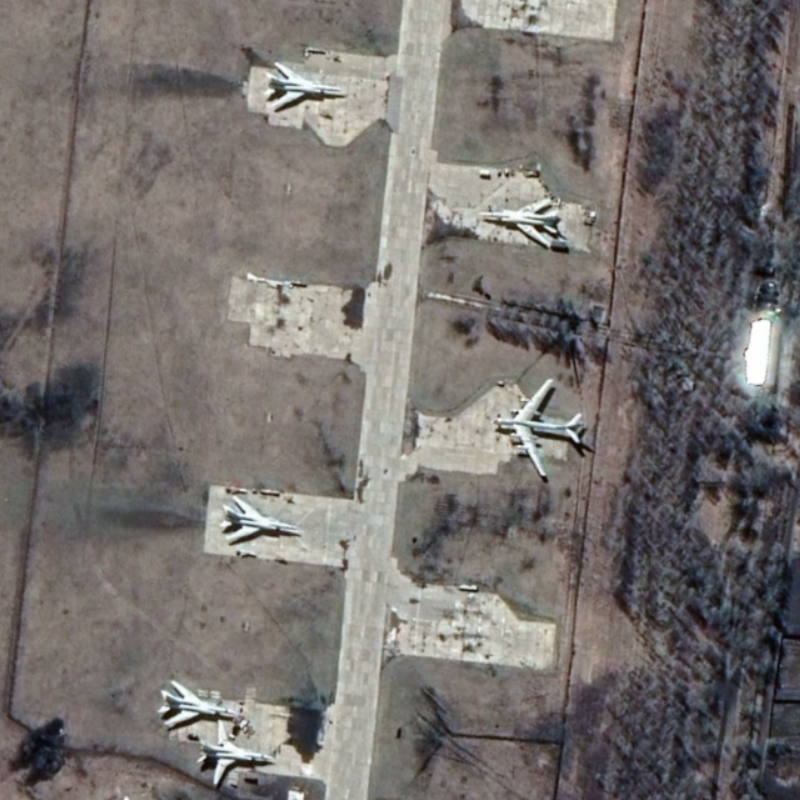A12: (195, 718, 277, 787), (477, 196, 561, 250), (263, 60, 344, 113), (156, 677, 238, 728), (219, 493, 301, 543)
A17: (492, 377, 586, 478)
